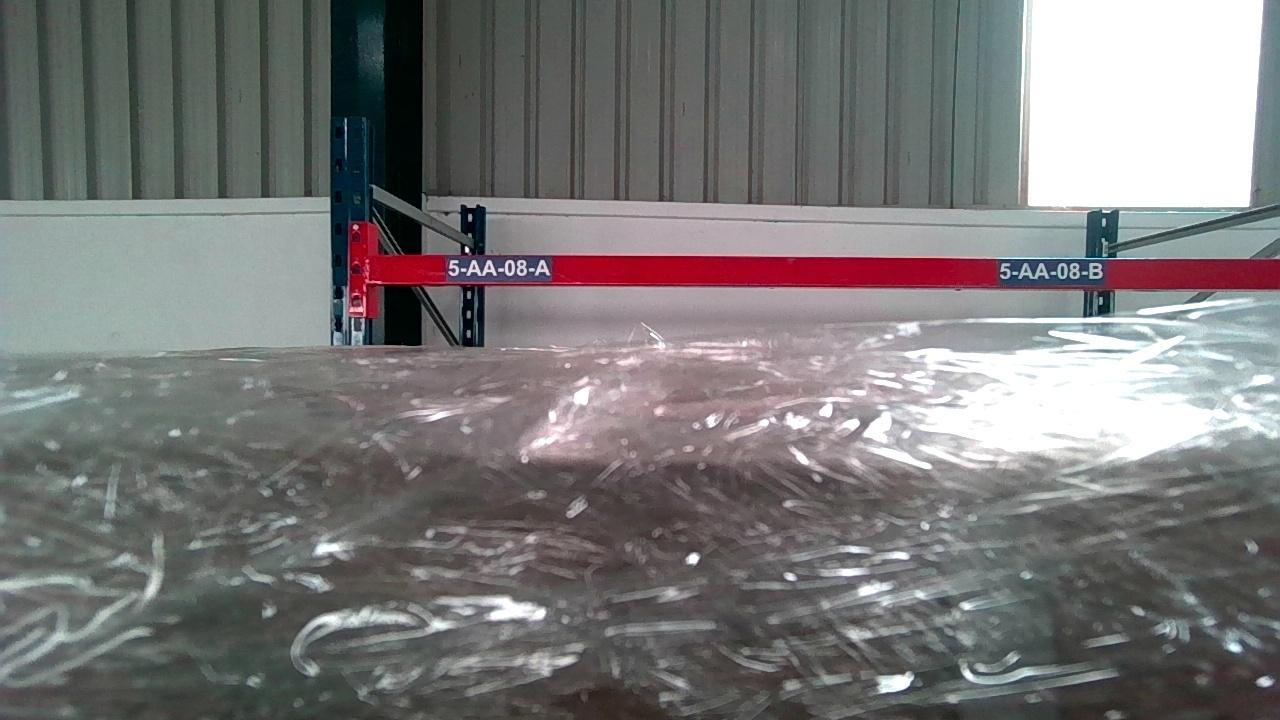h_rack: (368, 250, 1277, 290)
